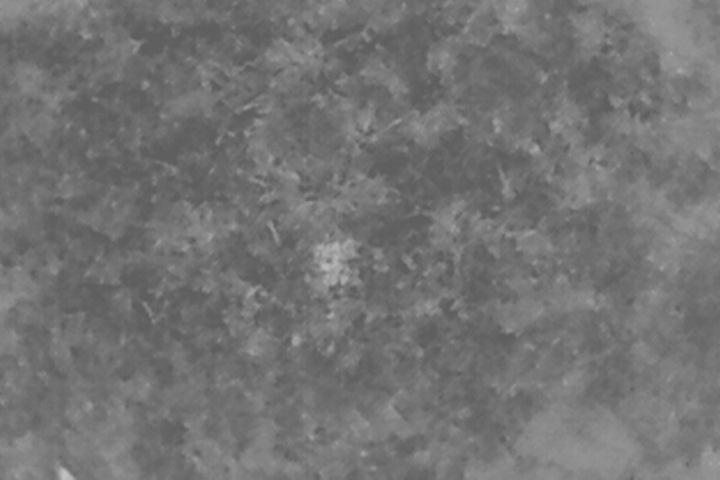landmine: (319, 241, 353, 284)
